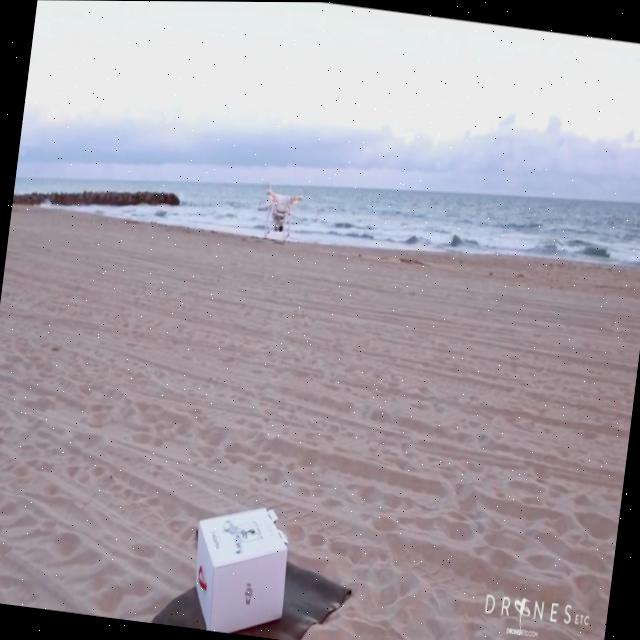drone: (250, 180, 305, 243)
